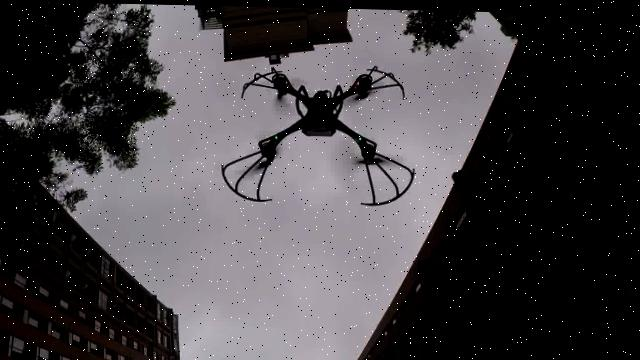drone: (230, 68, 427, 204)
